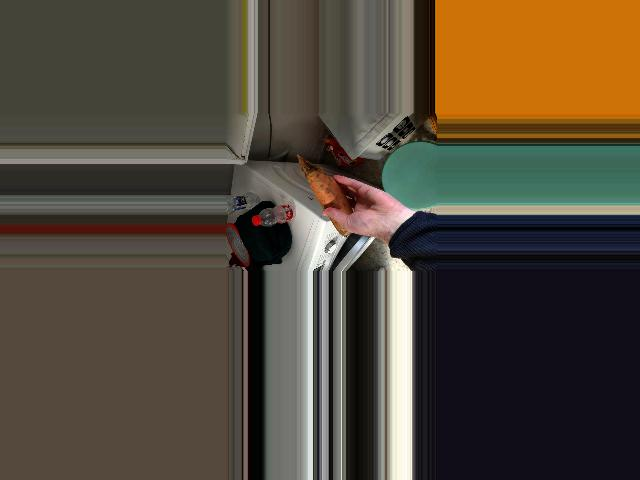sweet_potato: (307, 176, 351, 222)
